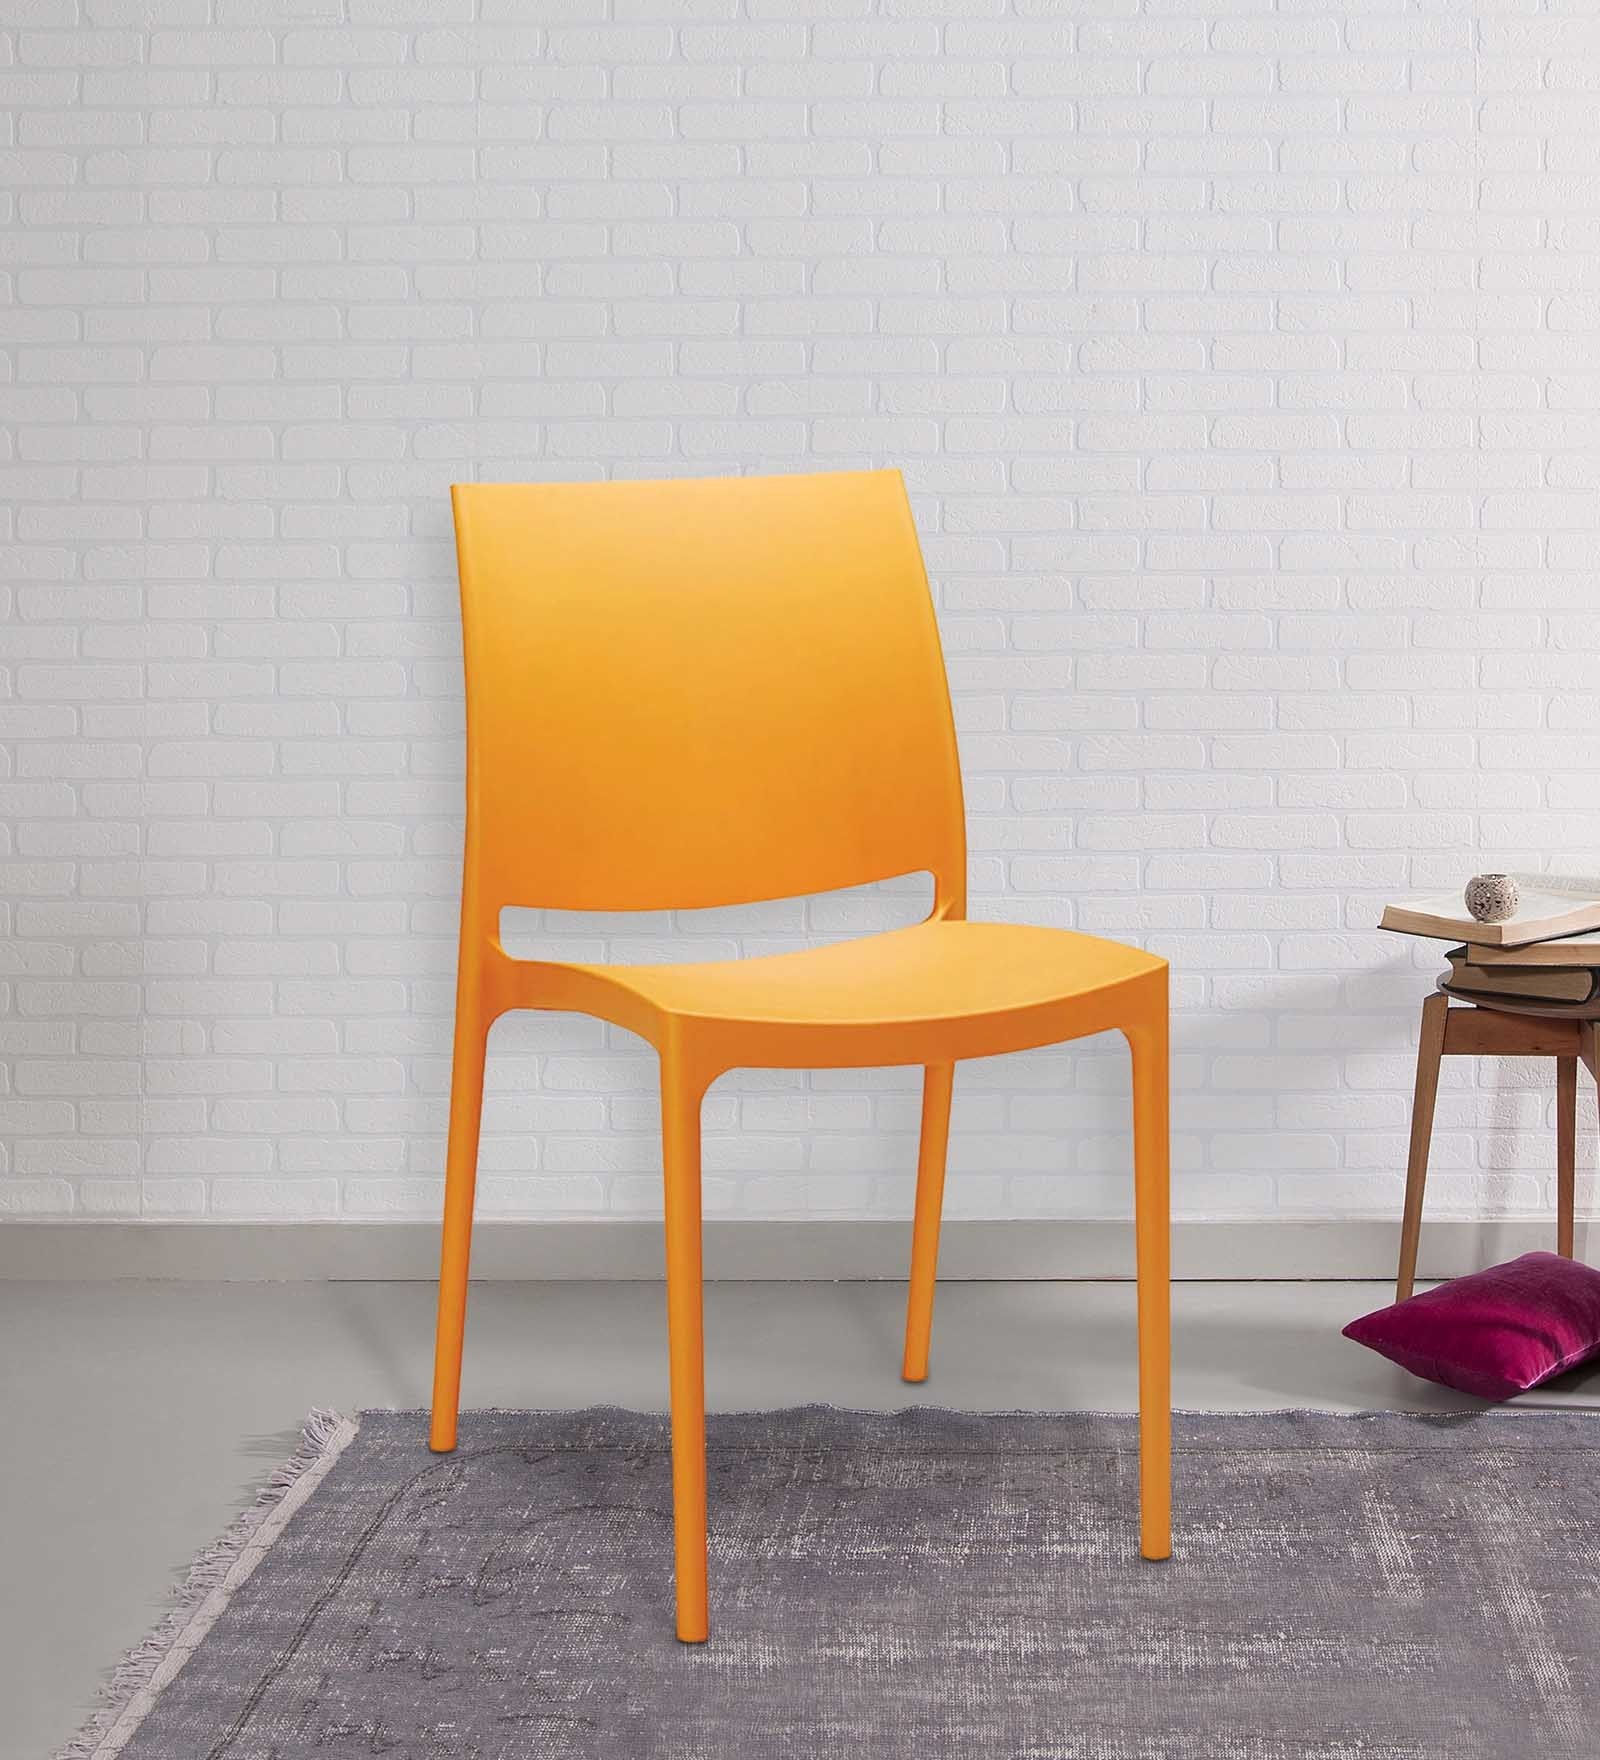Novella Chair in Orange Colour by Nilkamal: (421, 468, 1188, 1640)
